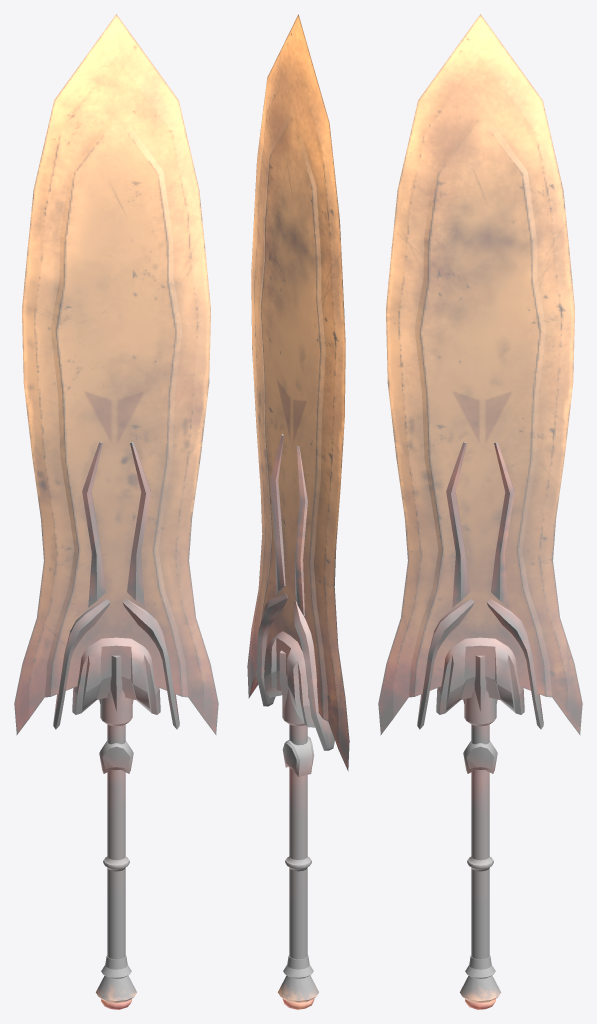
The model's file is burning_greatsword.gltf.
3 renders of one model, left to right at view 1: azimuth 90°, elevation 25°; view 2: azimuth 210°, elevation 25°; view 3: azimuth 270°, elevation 25°, orthographic.
Parts seen in each view (by area): view 1: Blade.001; view 2: Blade.001; view 3: Blade.001.
Part boxes in pixels (bbox=[...]): Blade.001: bbox=[14, 14, 218, 1009]; Blade.001: bbox=[247, 14, 349, 1009]; Blade.001: bbox=[378, 14, 582, 1009].
Size of the model in its own units: 0.0541 by 1.36 by 0.253.
